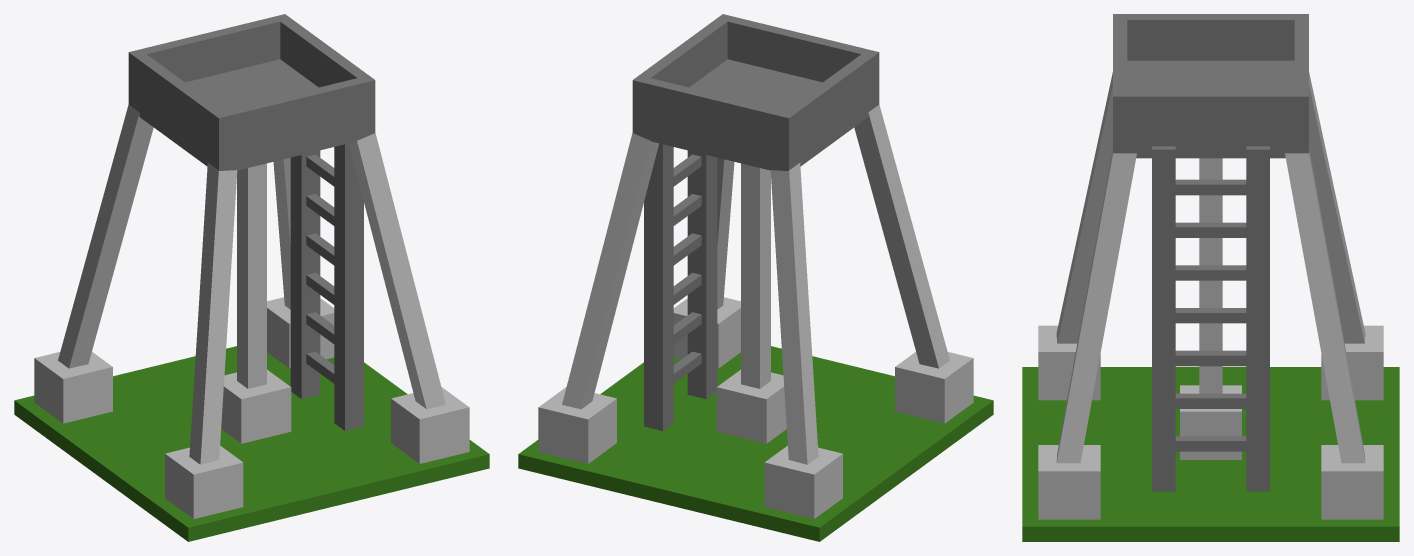
Rendered from lvl14.glb.
3 views of the same model, side by side, from view 1: azimuth 30°, elevation 25°; view 2: azimuth 150°, elevation 25°; view 3: azimuth 270°, elevation 25° (orthographic). The views are drawn at different scales.
Visible parts, largest first — view 1: Plane.013; view 2: Plane.013; view 3: Plane.013.
Boxes of the visible parts, x1,y1,x2,y2 form: Plane.013: (14, 14, 489, 541); Plane.013: (518, 14, 993, 541); Plane.013: (1022, 14, 1399, 541).
Bounding box in the file's own units: 4 × 4.76 × 4.
